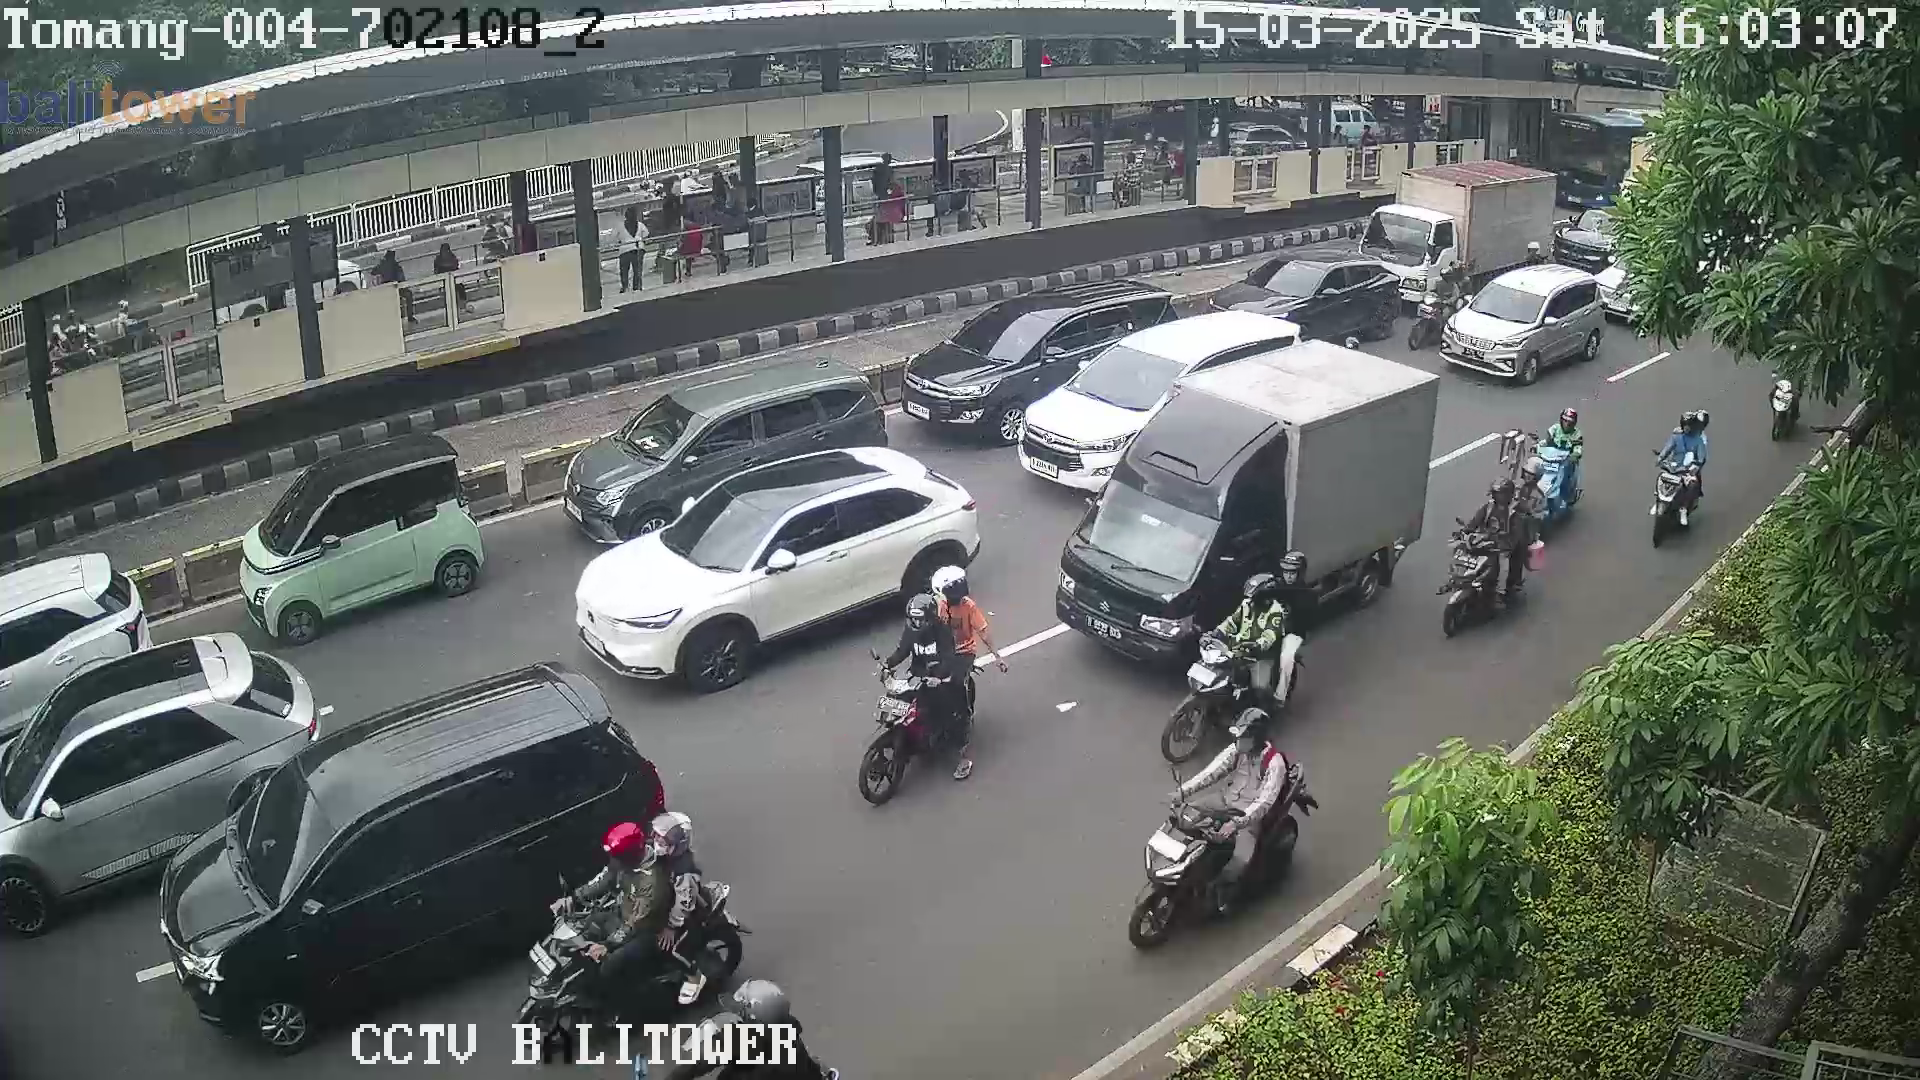half-face helmet: (596, 818, 647, 896), (1225, 702, 1280, 765), (647, 806, 704, 865), (931, 559, 990, 608), (1237, 576, 1286, 620), (904, 596, 945, 637), (1484, 476, 1521, 518), (1510, 455, 1551, 490), (1280, 549, 1310, 596), (1678, 408, 1698, 449), (1557, 408, 1586, 435)
